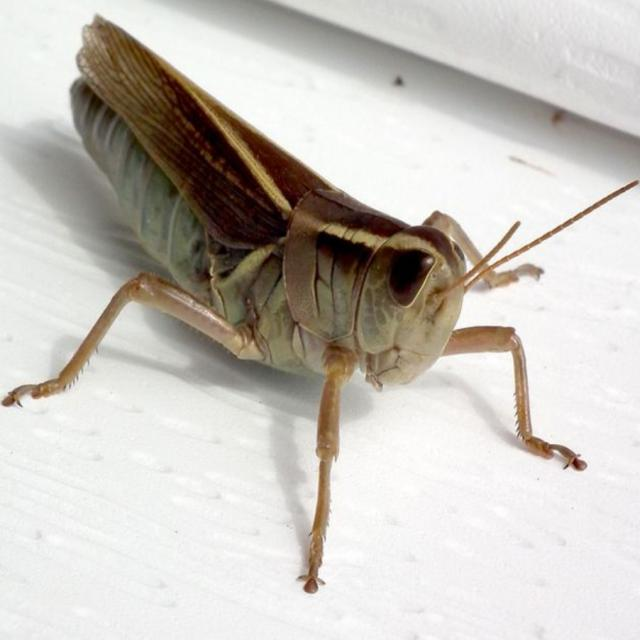ZhaMeng: (47, 6, 570, 446)
